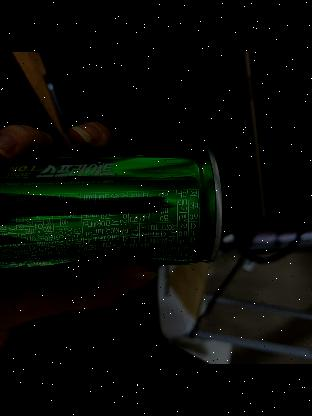Can: (0, 142, 223, 273)
